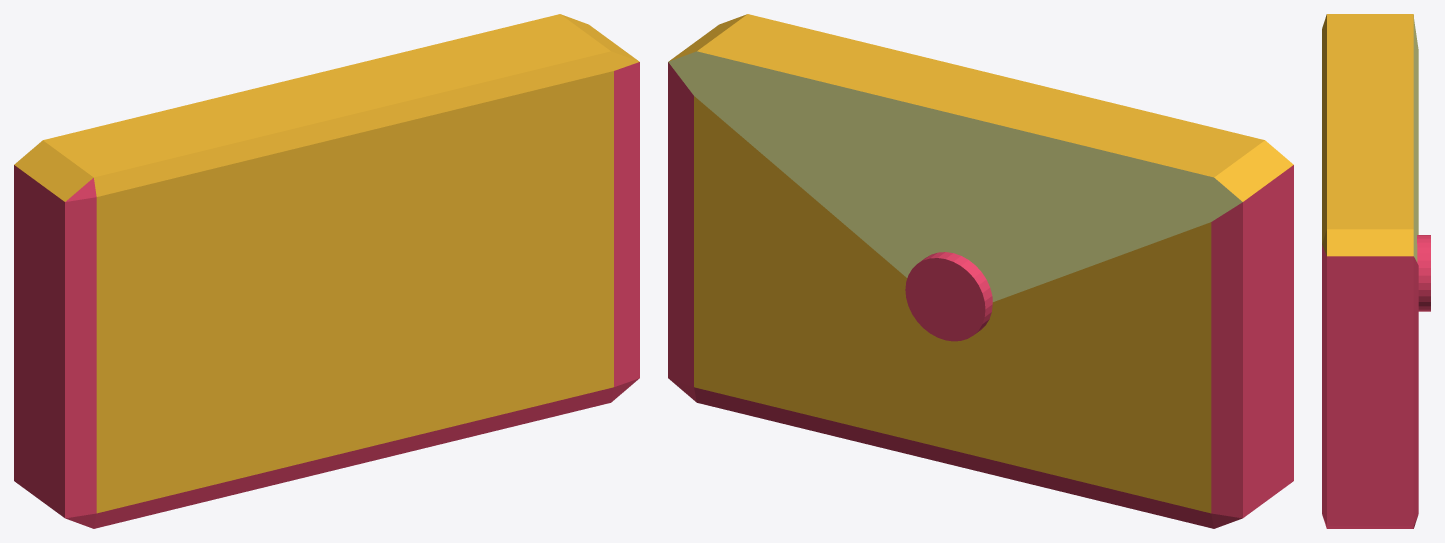
The model's file is letter_secret.fbx.
3 renders of one model, left to right at view 1: azimuth 30°, elevation 25°; view 2: azimuth 150°, elevation 25°; view 3: azimuth 270°, elevation 25°, orthographic. The views are drawn at different scales.
Visible parts, largest first — view 1: Letter; view 2: Letter; view 3: Letter.
Boxes of the visible parts, x1=… form: Letter: x1=14, y1=14, x2=639, y2=528; Letter: x1=668, y1=14, x2=1293, y2=528; Letter: x1=1322, y1=14, x2=1430, y2=528.
Bounding box in the file's own units: 59.44 × 34.73 × 11.44.
